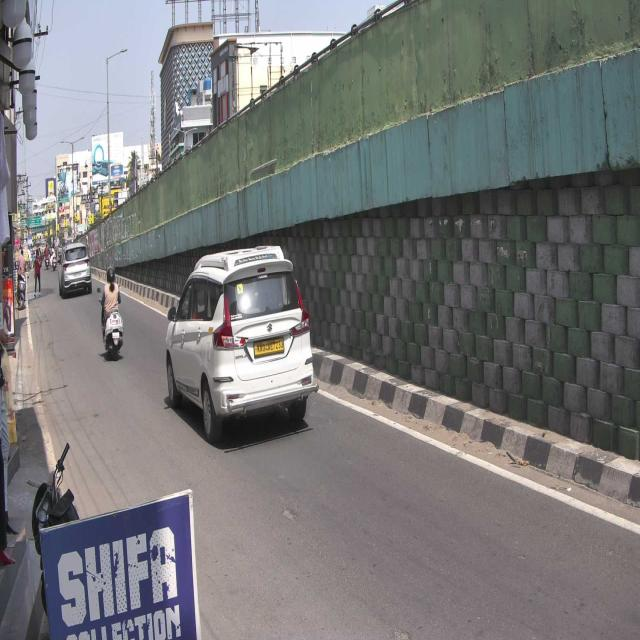single_rider: (96, 265, 126, 361)
